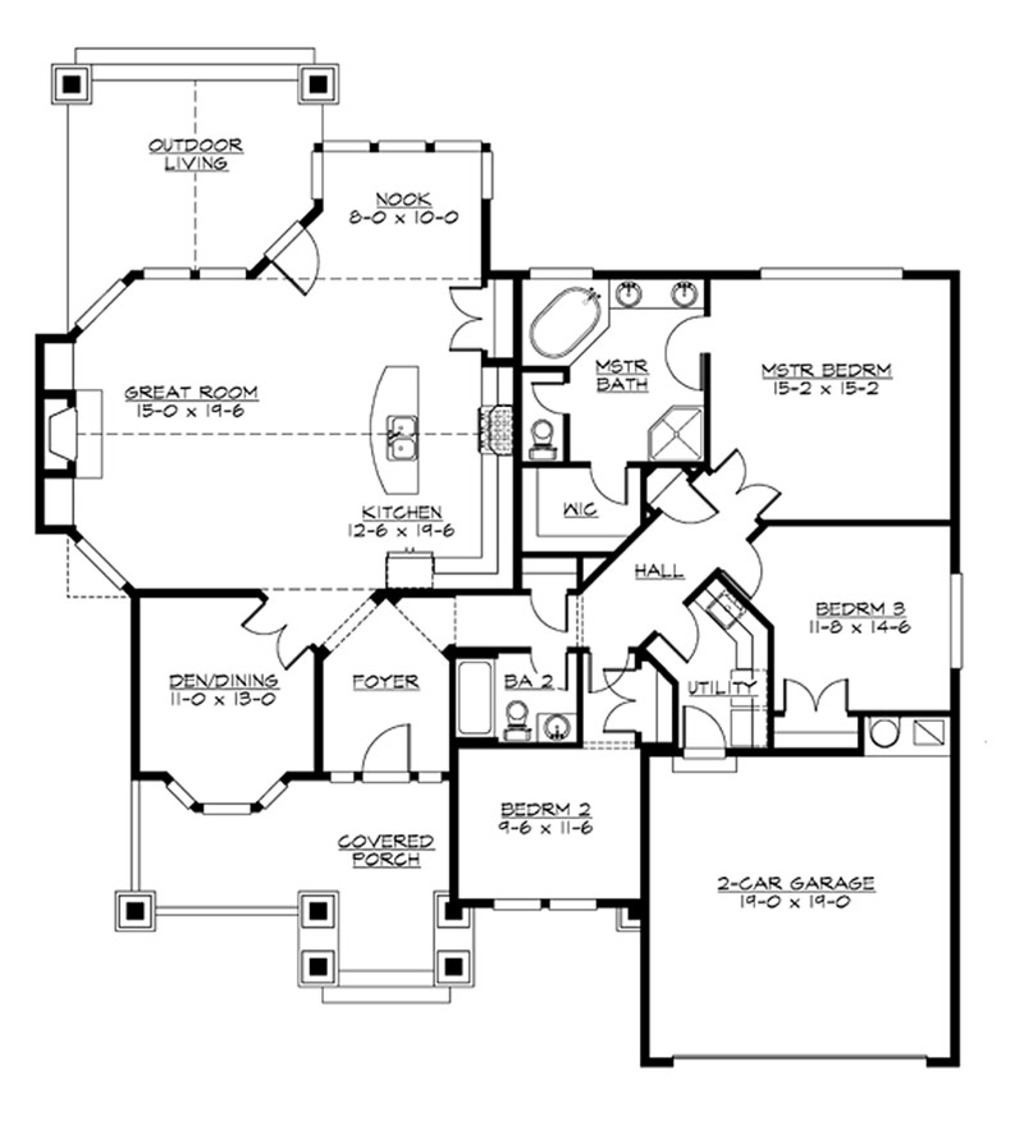door: (778, 674, 860, 760), (645, 472, 730, 530), (350, 718, 420, 788), (714, 451, 779, 526), (241, 597, 307, 668), (260, 223, 325, 293), (604, 665, 658, 744), (653, 605, 709, 668), (671, 312, 711, 400), (527, 581, 581, 646), (441, 282, 490, 353), (686, 707, 734, 775), (720, 547, 771, 600), (585, 647, 634, 702), (586, 463, 641, 512), (528, 377, 583, 416)
large_sink: (525, 412, 567, 463), (504, 698, 537, 754)
small_sink: (599, 272, 714, 312), (539, 711, 576, 751)
tub: (451, 654, 499, 744)
twin_sink: (374, 374, 420, 495)
window: (72, 260, 244, 335), (72, 530, 136, 597), (944, 574, 974, 675), (748, 260, 911, 277)
